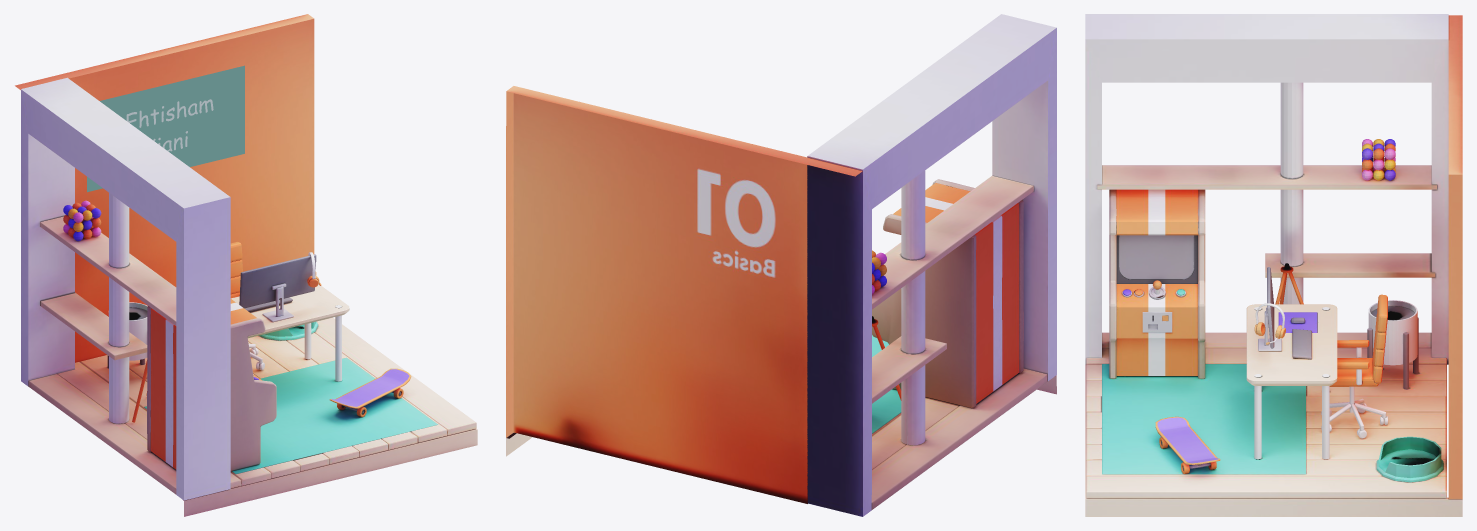
File: profile01.glb
3 views of the same model, side by side, from view 1: azimuth 30°, elevation 25°; view 2: azimuth 150°, elevation 25°; view 3: azimuth 270°, elevation 25° (orthographic). The views are drawn at different scales.
Visible parts, largest first — view 1: Level, Plane, Text; view 2: Level; view 3: Level.
Boxes of the visible parts, left/top/right/bottom form: Level: left=15, top=14, right=477, bottom=516; Plane: left=87, top=65, right=244, bottom=192; Text: left=126, top=99, right=213, bottom=151; Level: left=506, top=14, right=1056, bottom=516; Level: left=1085, top=14, right=1462, bottom=516.
Bounding box in the file's own units: 2 × 2.01 × 2.
3 materials, 1 textured.
